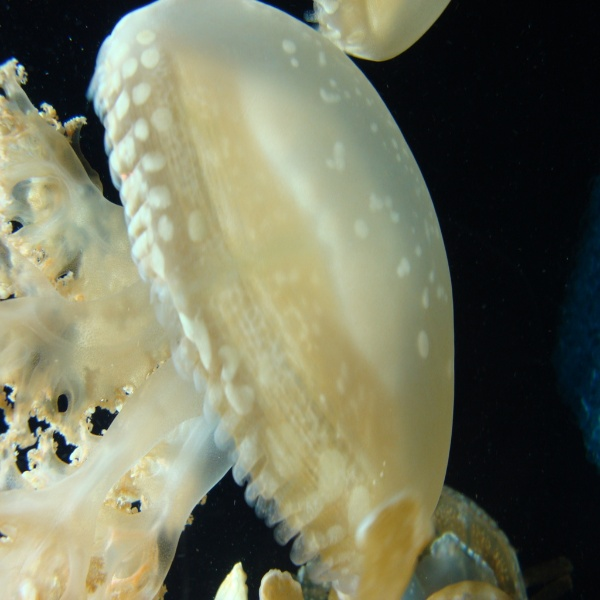Jellyfish: (0, 0, 453, 599)
